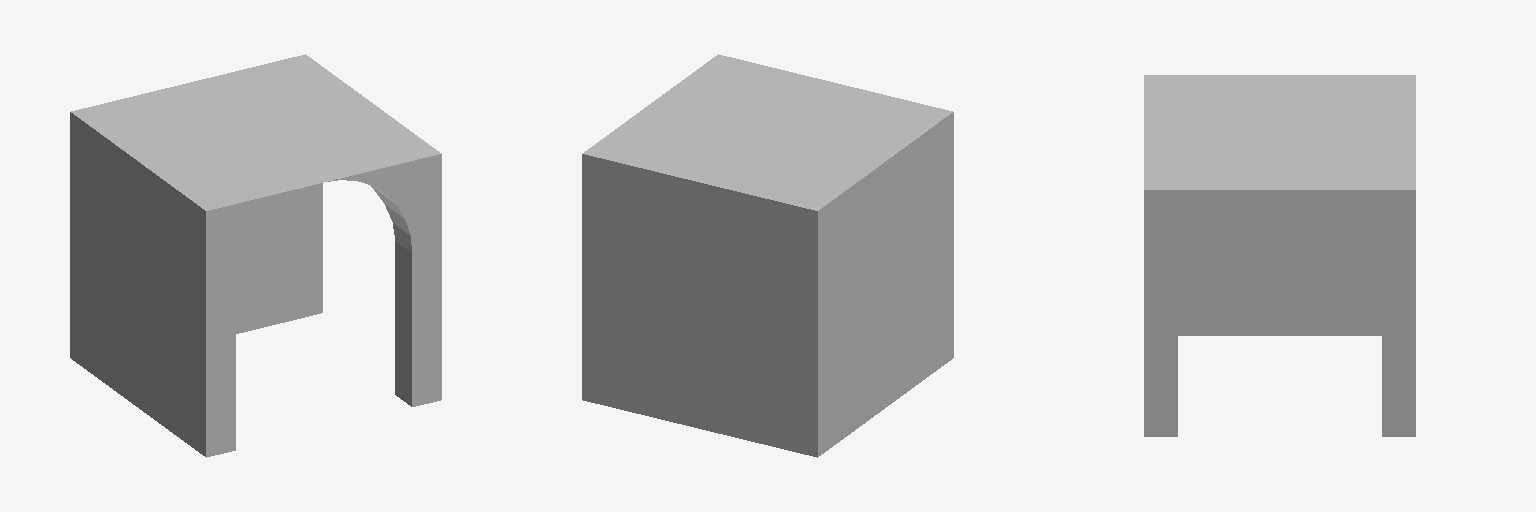
File: internal_hall_arch_turn.obj
3 renders of one model, left to right at view 1: azimuth 30°, elevation 25°; view 2: azimuth 150°, elevation 25°; view 3: azimuth 270°, elevation 25°, orthographic.
Visible parts, largest first — view 1: Cube.003; view 2: Cube.003; view 3: Cube.003.
Part boxes in pixels (x1,y1,x2,y2): Cube.003: (70, 54, 441, 457); Cube.003: (582, 54, 953, 457); Cube.003: (1144, 75, 1415, 436).
Size of the model in its own units: 4 by 4 by 4.